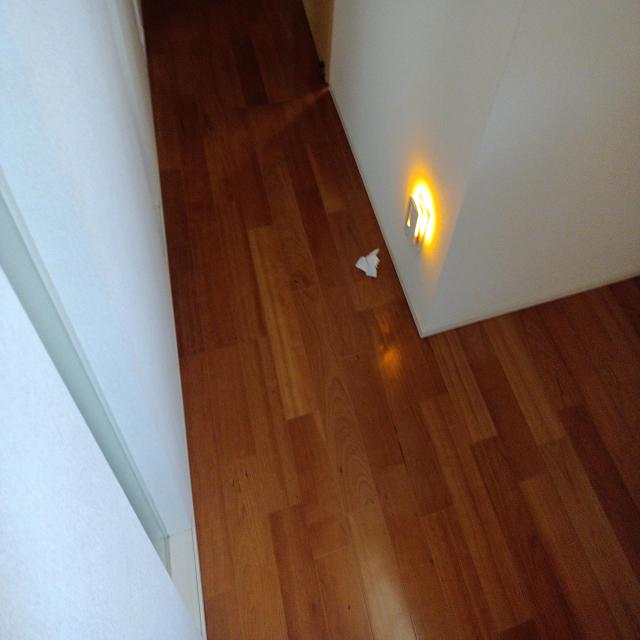衛生紙: (350, 246, 386, 279)
